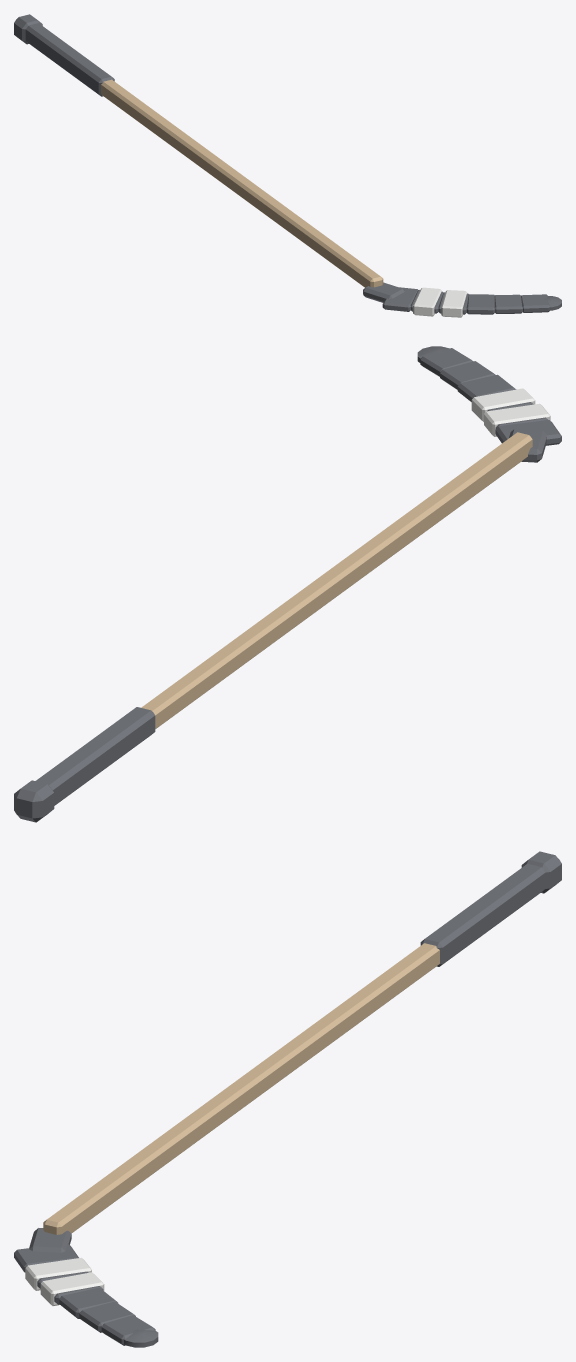
File: ice-hockey-arena-and-locker-room-hockey-stick-552f90d7__33715.glb
The picture shows the model from 3 angles, top to bottom: view 1: azimuth 30°, elevation 25°; view 2: azimuth 150°, elevation 25°; view 3: azimuth 330°, elevation 25°; orthographic projection. The views are drawn at different scales.
Parts seen in each view (by area): view 1: hockey-stick; view 2: hockey-stick; view 3: hockey-stick.
Boxes of the visible parts, x1=… form: hockey-stick: x1=14, y1=14, x2=561, y2=317; hockey-stick: x1=14, y1=346, x2=561, y2=822; hockey-stick: x1=14, y1=851, x2=561, y2=1347.
Bounding box in the file's own units: 0.303 × 0.048 × 1.54.
